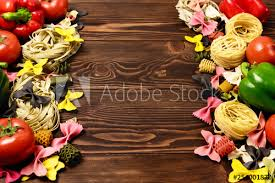Tomato: (1, 118, 41, 157), (250, 38, 275, 59), (1, 24, 15, 56)
